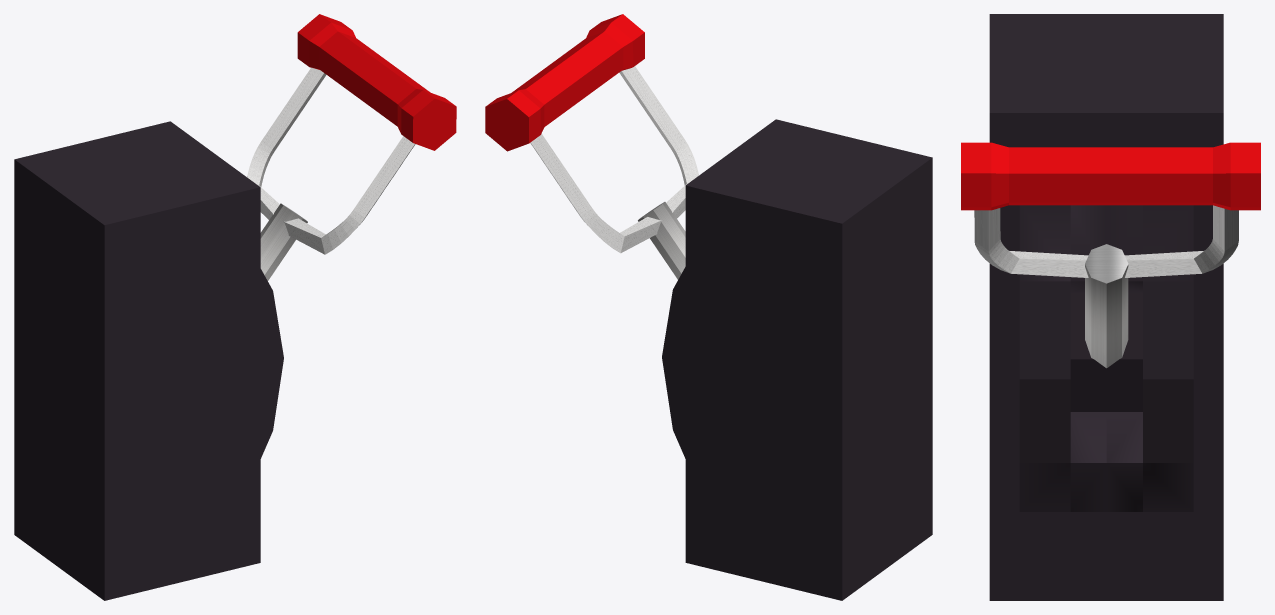
The model's file is Switch_Completedv4 1.fbx.
3 views of the same model, side by side, from view 1: azimuth 30°, elevation 25°; view 2: azimuth 150°, elevation 25°; view 3: azimuth 270°, elevation 25° (orthographic). The views are drawn at different scales.
Visible parts, largest first — view 1: Main, Handle, Lever, Pole; view 2: Main, Handle, Lever, Pole; view 3: Main, Handle, Lever, Pole.
Part boxes in pixels (x1,y1,x2,y2): Main: (14,121,283,600); Handle: (297,14,456,150); Lever: (247,67,415,254); Pole: (260,203,307,280); Main: (662,119,932,600); Handle: (485,14,644,151); Lever: (530,66,698,253); Pole: (638,202,685,279); Main: (989,14,1223,600); Handle: (961,142,1260,210); Lever: (974,205,1238,277); Pole: (1085,244,1128,368).
Bounding box in the file's own units: 190 × 230 × 111.
Materials: 3 (1 with a texture image).
